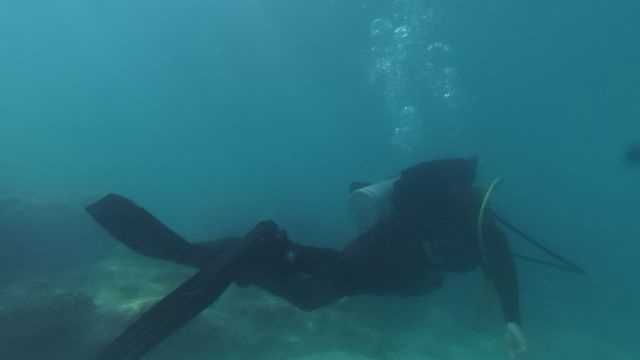Diver: (67, 133, 542, 353)
Hand: (496, 312, 534, 358)
